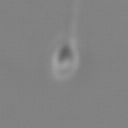normal: (62, 1, 87, 39)
